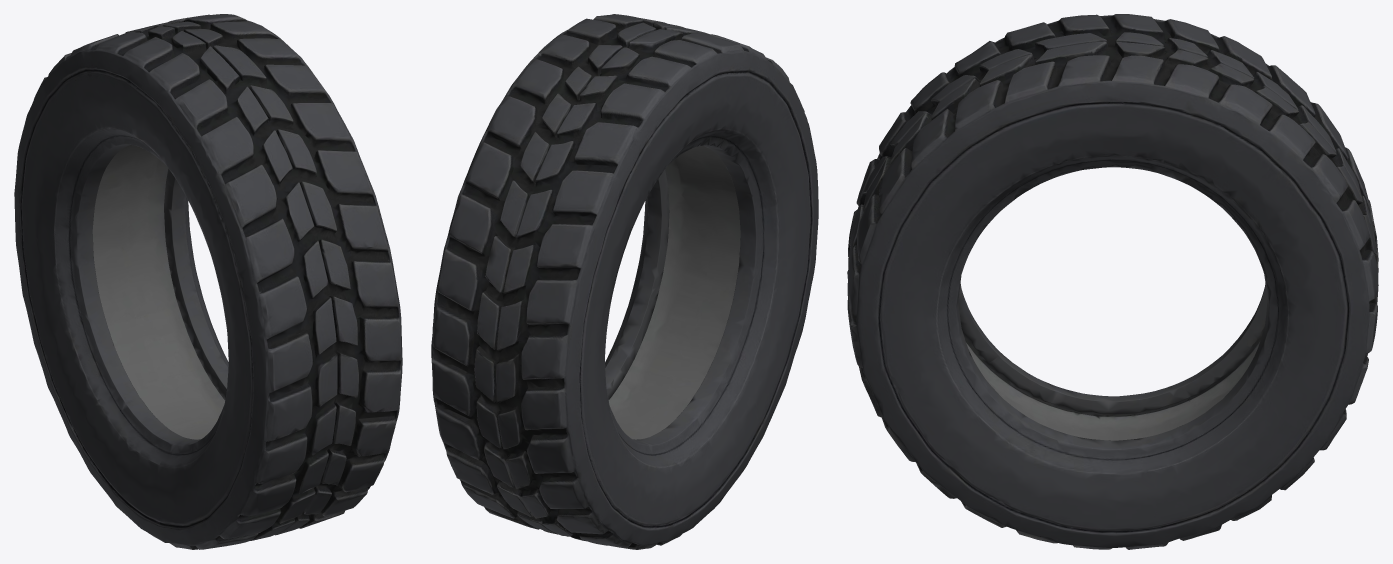
The model's file is tire_1k_real.glb.
3 renders of one model, left to right at view 1: azimuth 30°, elevation 25°; view 2: azimuth 150°, elevation 25°; view 3: azimuth 270°, elevation 25°, orthographic.
Parts seen in each view (by area): view 1: tripo_node_499f962f-9ba3-44bd-b24e-9844fb3f7a18; view 2: tripo_node_499f962f-9ba3-44bd-b24e-9844fb3f7a18; view 3: tripo_node_499f962f-9ba3-44bd-b24e-9844fb3f7a18.
Part boxes in pixels (x1,y1,x2,y2): tripo_node_499f962f-9ba3-44bd-b24e-9844fb3f7a18: (14,14,402,549); tripo_node_499f962f-9ba3-44bd-b24e-9844fb3f7a18: (431,14,818,549); tripo_node_499f962f-9ba3-44bd-b24e-9844fb3f7a18: (847,14,1378,549).
Bounding box in the file's own units: 0.3165 × 1 × 0.9984.
1 material, 1 textured.
